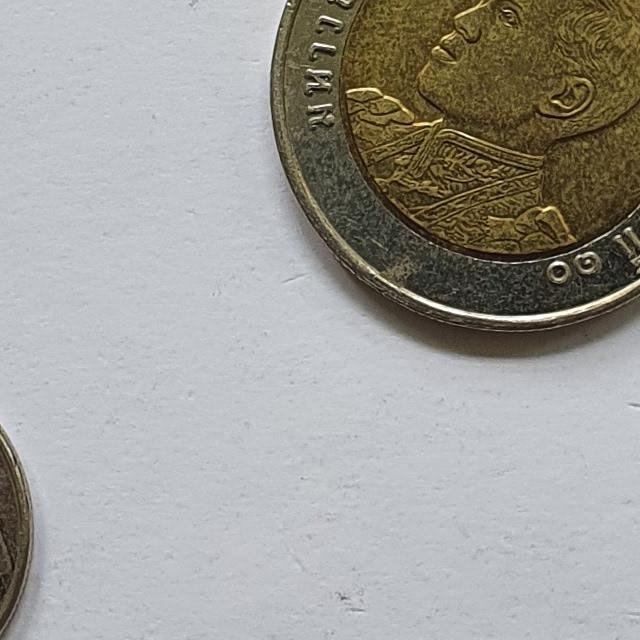1 Bath: (1, 417, 38, 640)
10 Bath: (261, 1, 640, 346)
